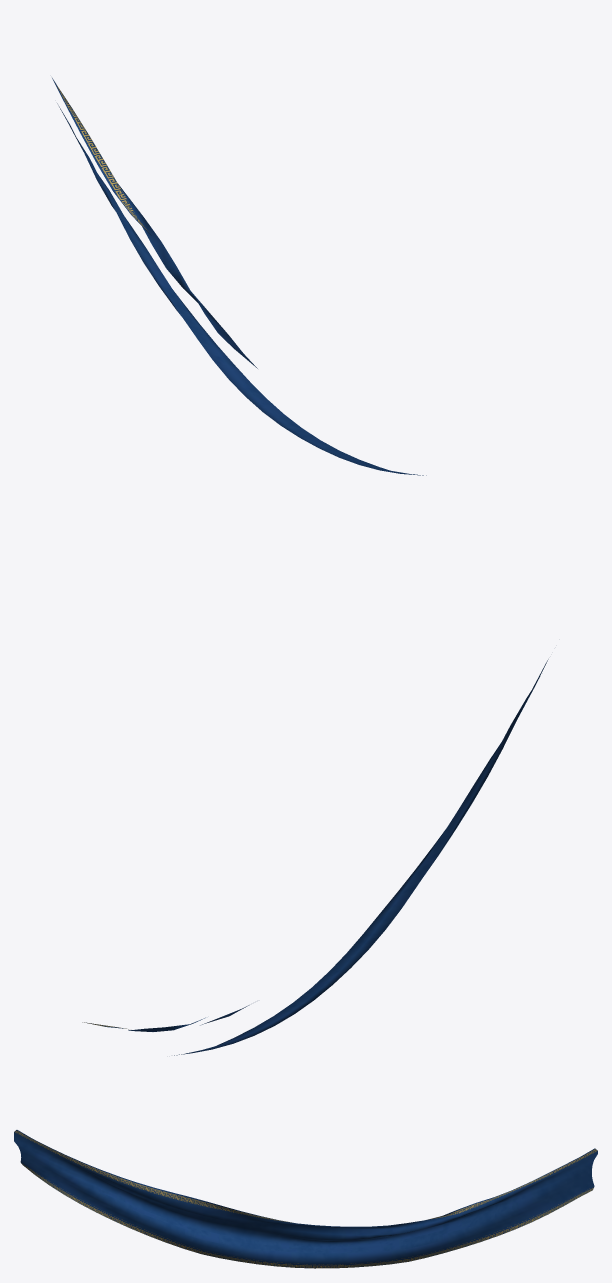
The model's file is SM_fabric_decoration_07.glb.
3 views of the same model, one above another, from view 1: azimuth 30°, elevation 25°; view 2: azimuth 150°, elevation 25°; view 3: azimuth 270°, elevation 25° (orthographic). The views are drawn at different scales.
Parts seen in each view (by area): view 1: SM_fabric_decoration_07; view 2: SM_fabric_decoration_07; view 3: SM_fabric_decoration_07.
Boxes of the visible parts, x1,y1,x2,y2 form: SM_fabric_decoration_07: (52, 78, 426, 475); SM_fabric_decoration_07: (82, 659, 548, 1055); SM_fabric_decoration_07: (14, 1130, 597, 1268).
Size of the model in its own units: 0.37 by 3.14 by 12.06.
Materials: 1 (1 with a texture image).
